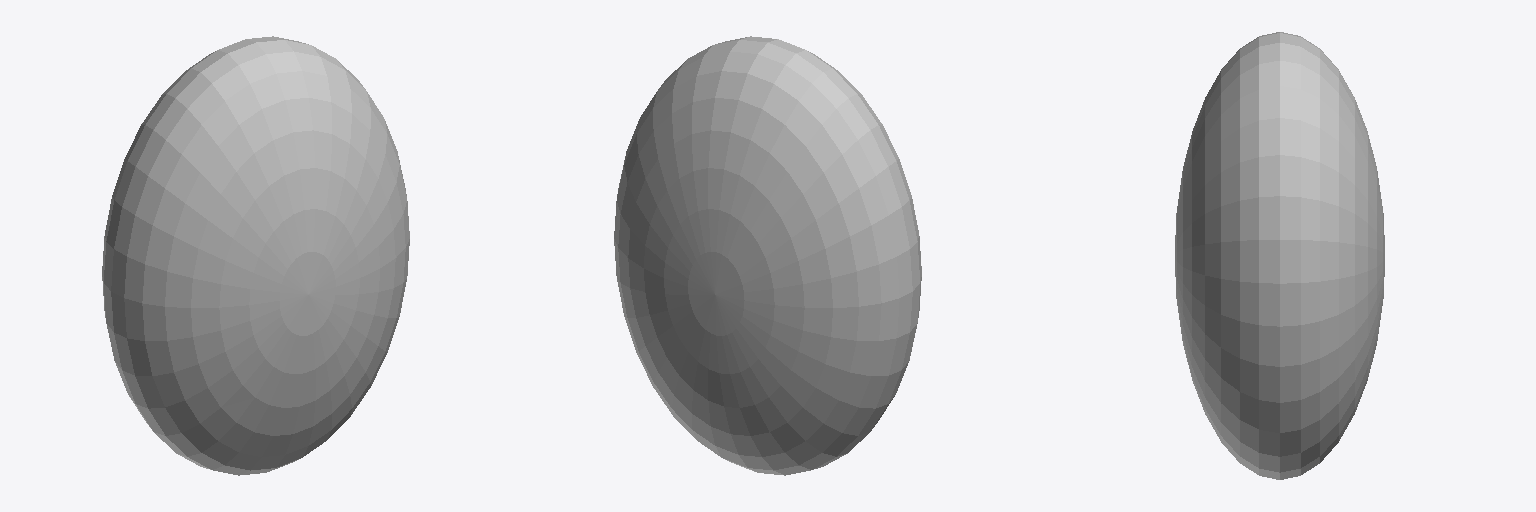
Rendered from ObjectStone.obj.
3 renders of one model, left to right at view 1: azimuth 30°, elevation 25°; view 2: azimuth 150°, elevation 25°; view 3: azimuth 270°, elevation 25°, orthographic.
Parts seen in each view (by area): view 1: Sphere; view 2: Sphere; view 3: Sphere.
Boxes of the visible parts, x1,y1,x2,y2 form: Sphere: [102, 36, 409, 475]; Sphere: [614, 36, 921, 475]; Sphere: [1175, 32, 1384, 479].
Size of the model in its own units: 0.7904 by 1.11 by 0.4984.